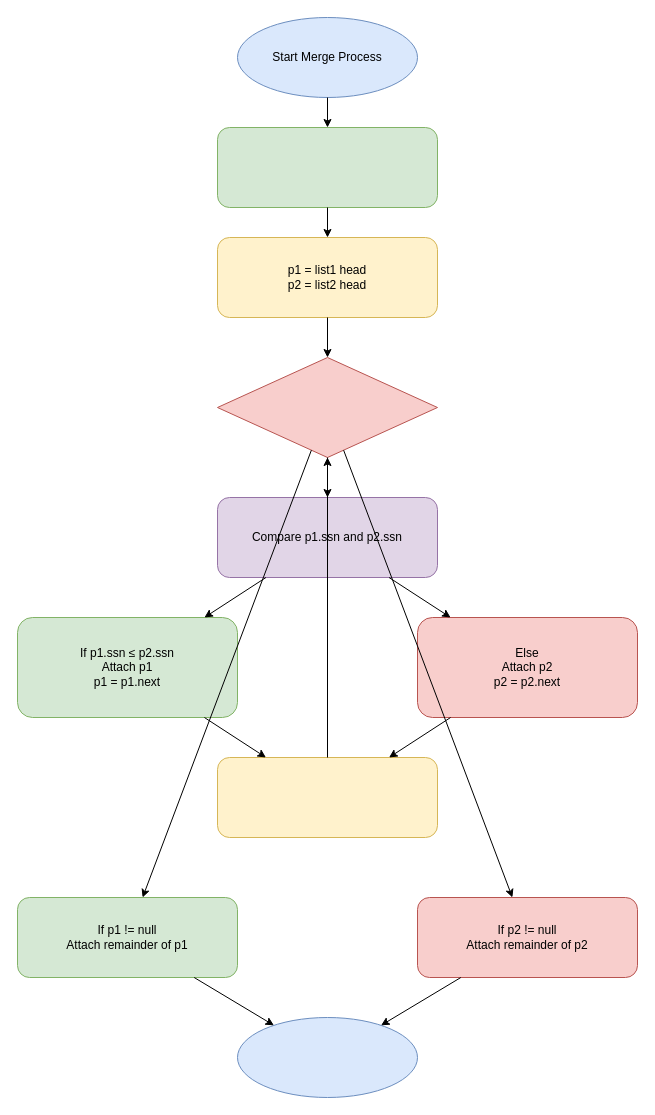
Image size: 655x1115. Some labels were removed from this diagram. The shapes that lost their labels are listed below. From the top down, each one's centre as x and y in pixels, then its label:
At (x=327, y=167): "Create dummy head node current = dummy".
At (x=327, y=407): "p1 != null AND p2 != null?".
At (x=327, y=797): "current = current.next".
At (x=327, y=1057): "Return dummy.next".
